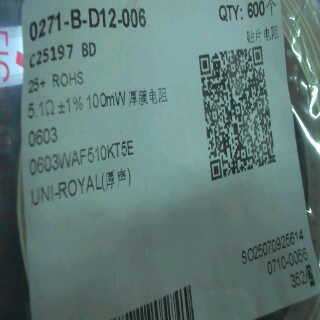5.1R: (23, 95, 58, 126)
